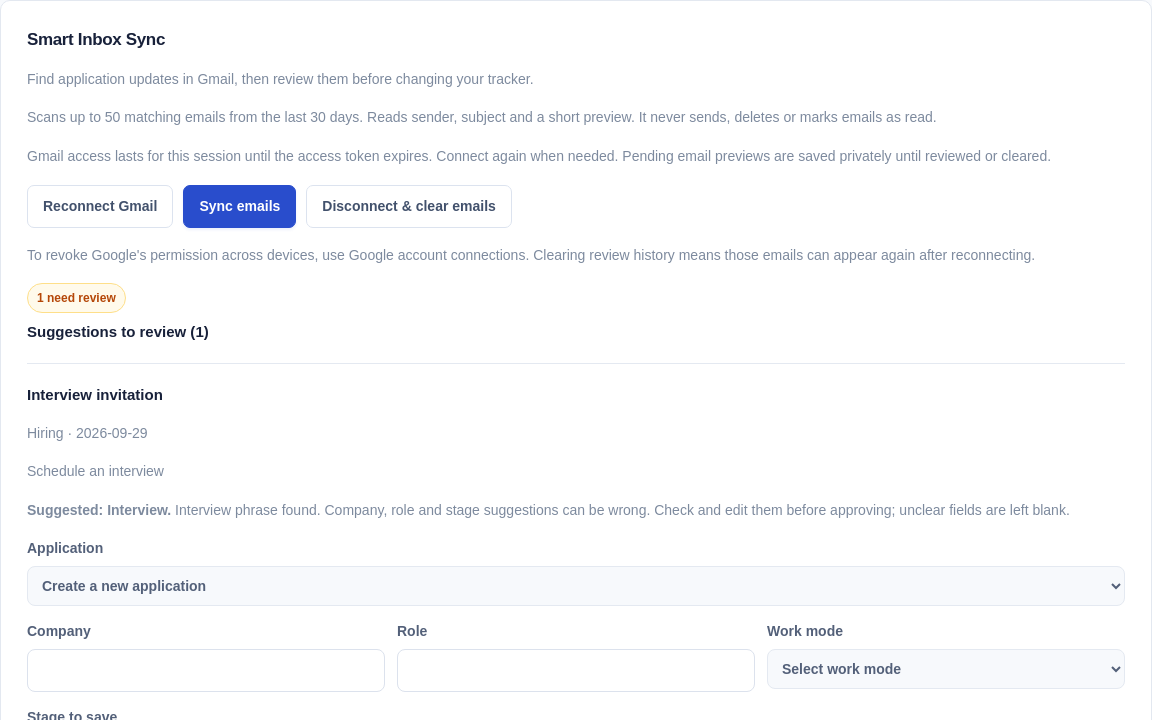
Scenario: retains the suggestion after an API error and allows dismissal
Expected: the heading "Interview invitation" is shown, [27,386,163,403]
Select "Acme — Java Developer" in the dropdown labelled "Application": coordinates (576, 586) [27,566,1125,606]
(page scrolled)
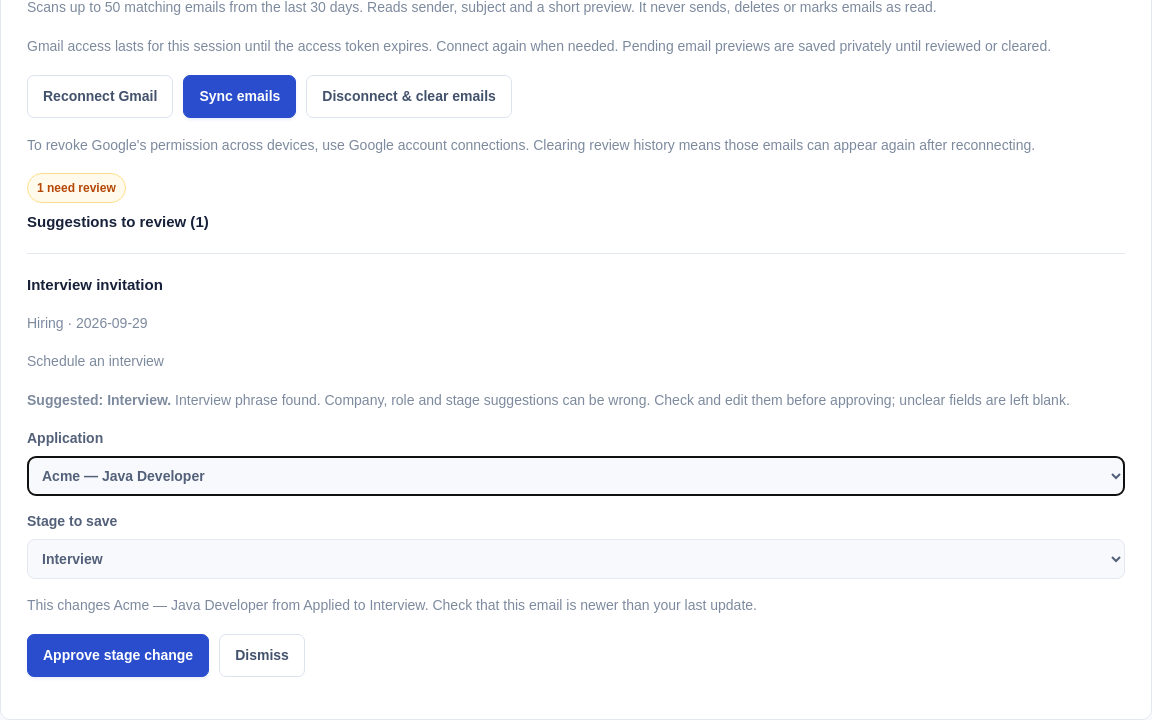
Click the button "Approve stage change": coordinates (118, 655) [27,634,209,677]
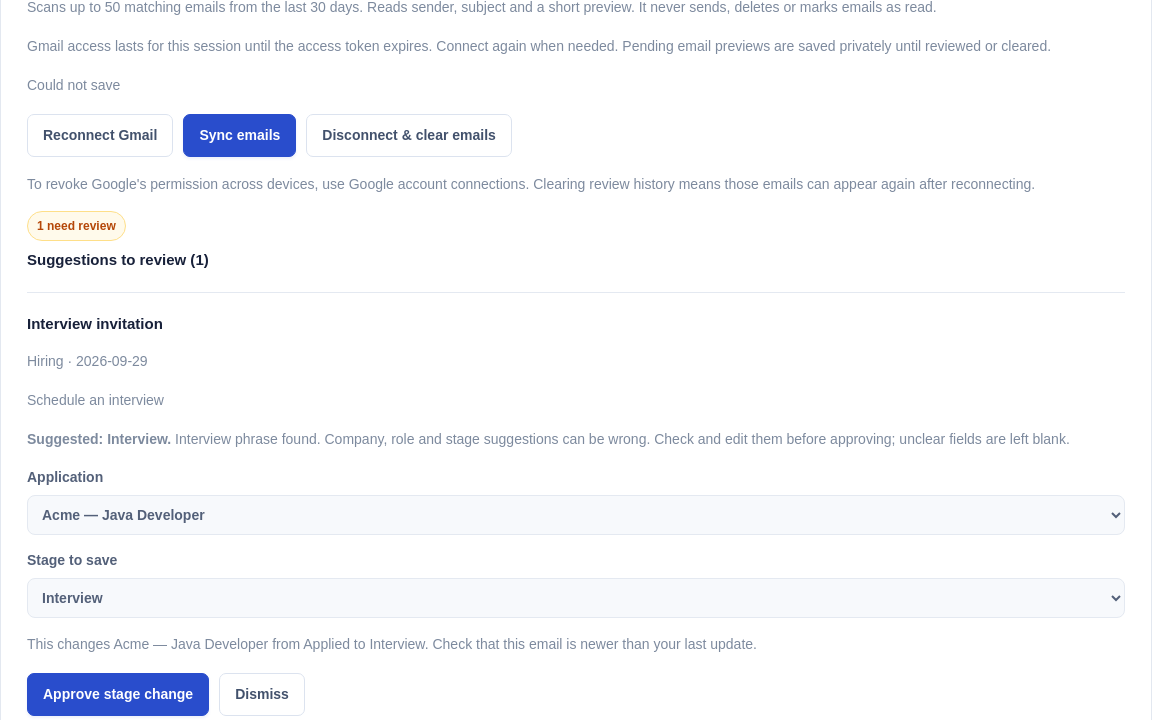
Expected: the heading "Interview invitation" is shown, [27,315,163,332]
Result: the message reads "Could not save" at [27,77,120,93]
Click the button "Dismiss": coordinates (262, 694) [219,673,305,716]
(page scrolled)
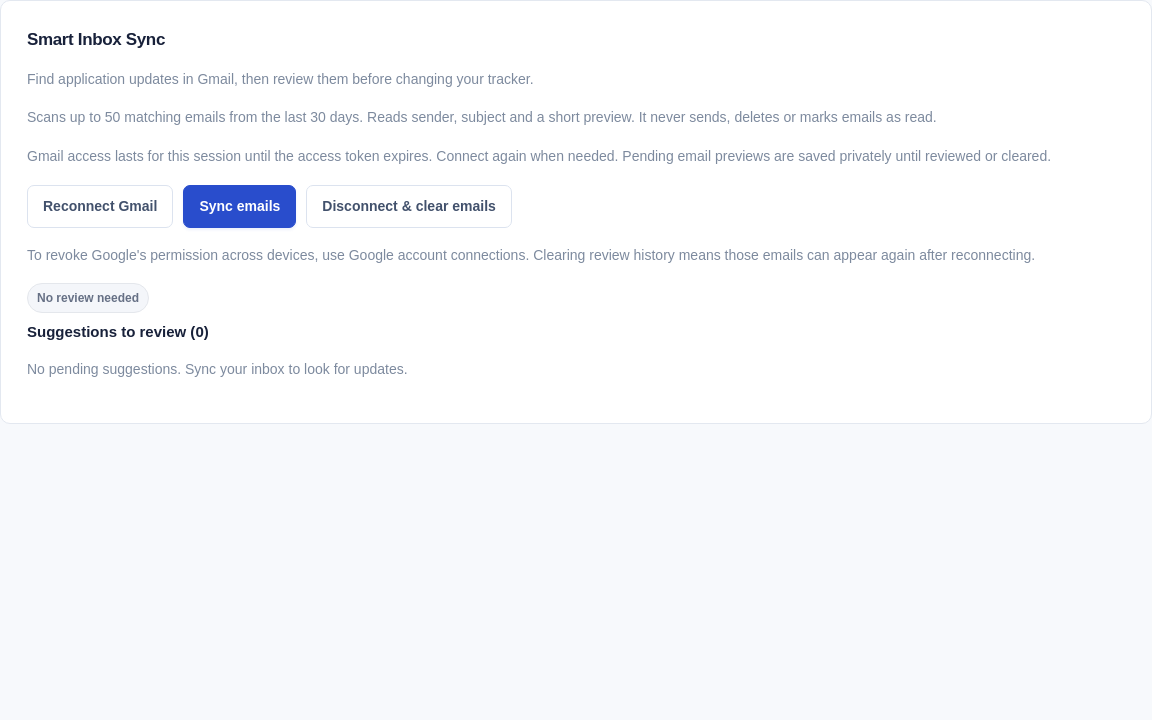
Result: the heading "Interview invitation" is gone
